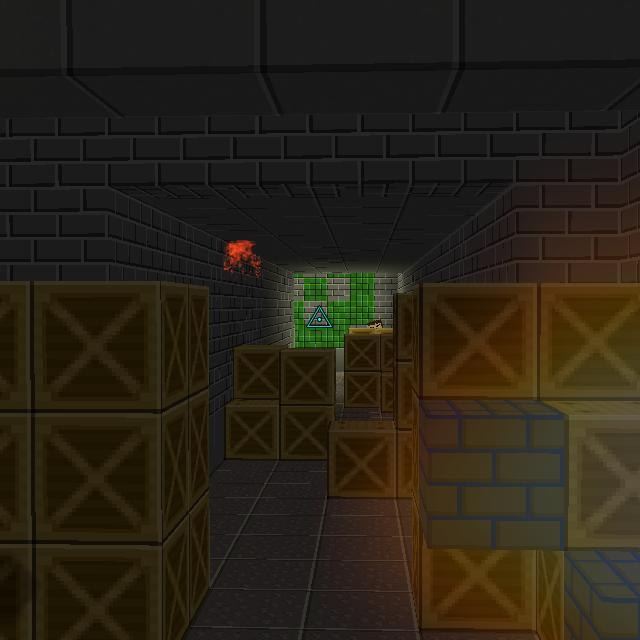enemy: (368, 319, 383, 329)
